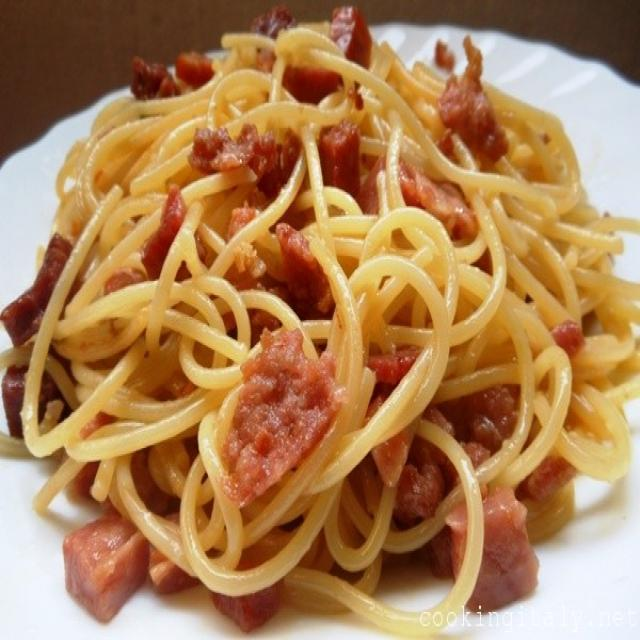Pasta with carbonara sauce: (37, 25, 630, 632)
